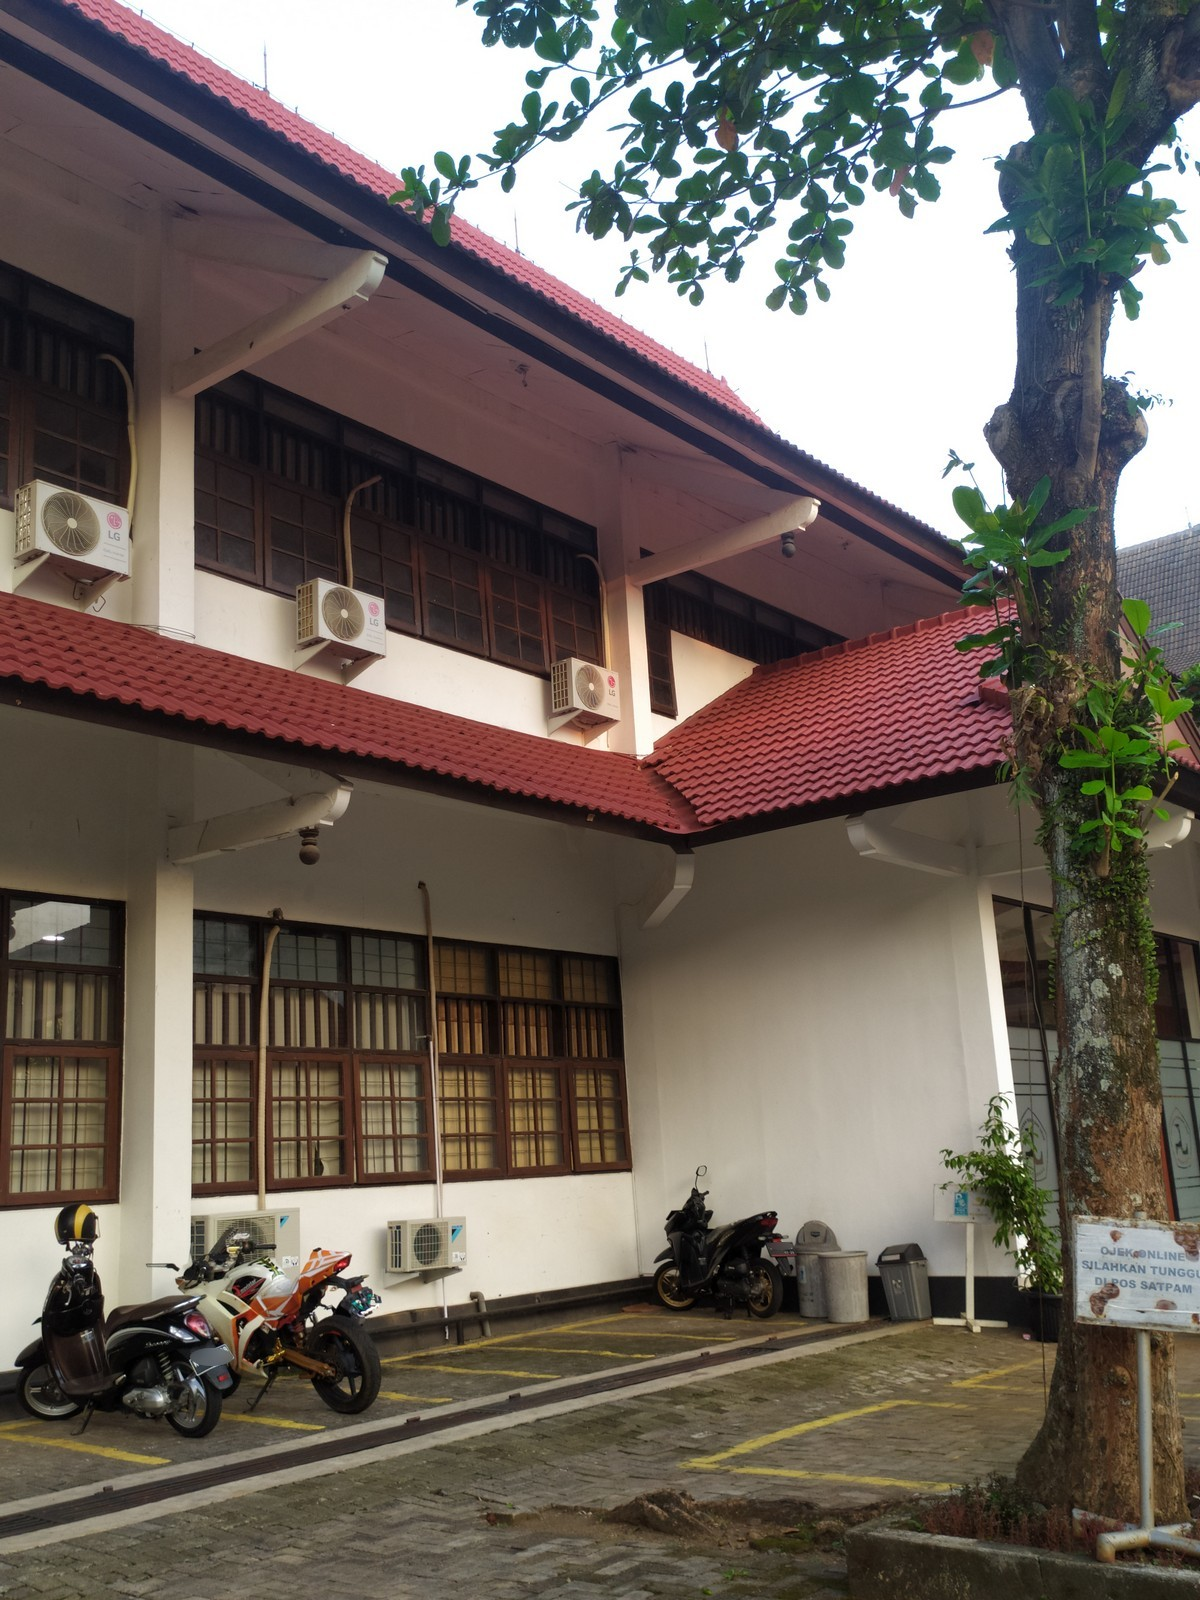concrete beam: (156, 803, 304, 871)
concrete column: (111, 732, 205, 1300), (122, 191, 211, 650), (584, 433, 655, 757)
